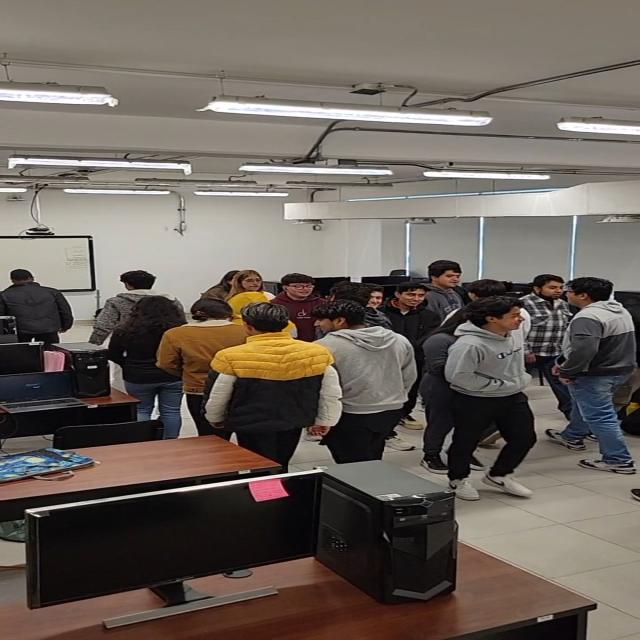Persona: (443, 300, 536, 503), (558, 276, 640, 479), (312, 299, 406, 472), (224, 302, 320, 466), (109, 292, 172, 425), (171, 296, 236, 423), (0, 263, 69, 343), (529, 273, 569, 390)
